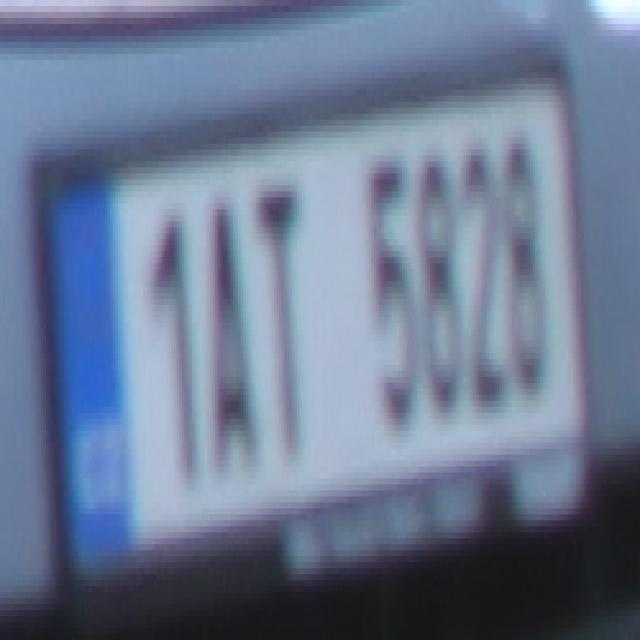1: (143, 210, 200, 484)
2: (466, 138, 502, 406)
5: (361, 150, 420, 424)
8: (499, 137, 553, 400), (415, 150, 463, 424)
A: (205, 192, 253, 478)
T: (256, 180, 307, 472)
